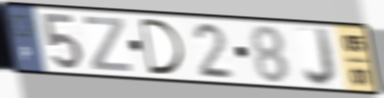2: (191, 21, 235, 81)
5: (39, 12, 86, 71)
8: (248, 23, 292, 86)
D: (136, 16, 187, 77)
J: (302, 25, 338, 89)
Z: (81, 14, 134, 74)
